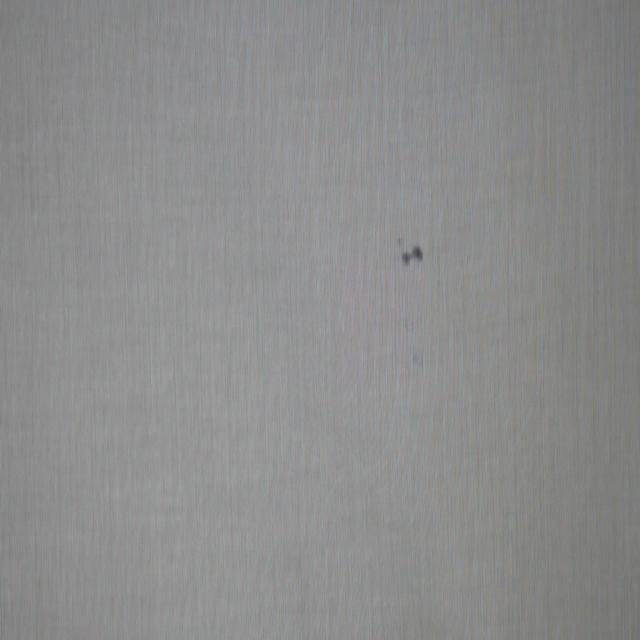dirty: (400, 242, 425, 266)
